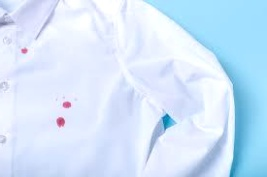blood: (56, 115, 65, 129), (20, 46, 28, 55), (63, 101, 71, 108)
